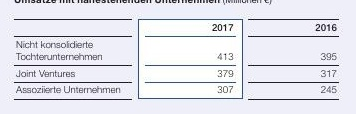table: (0, 0, 356, 114)
